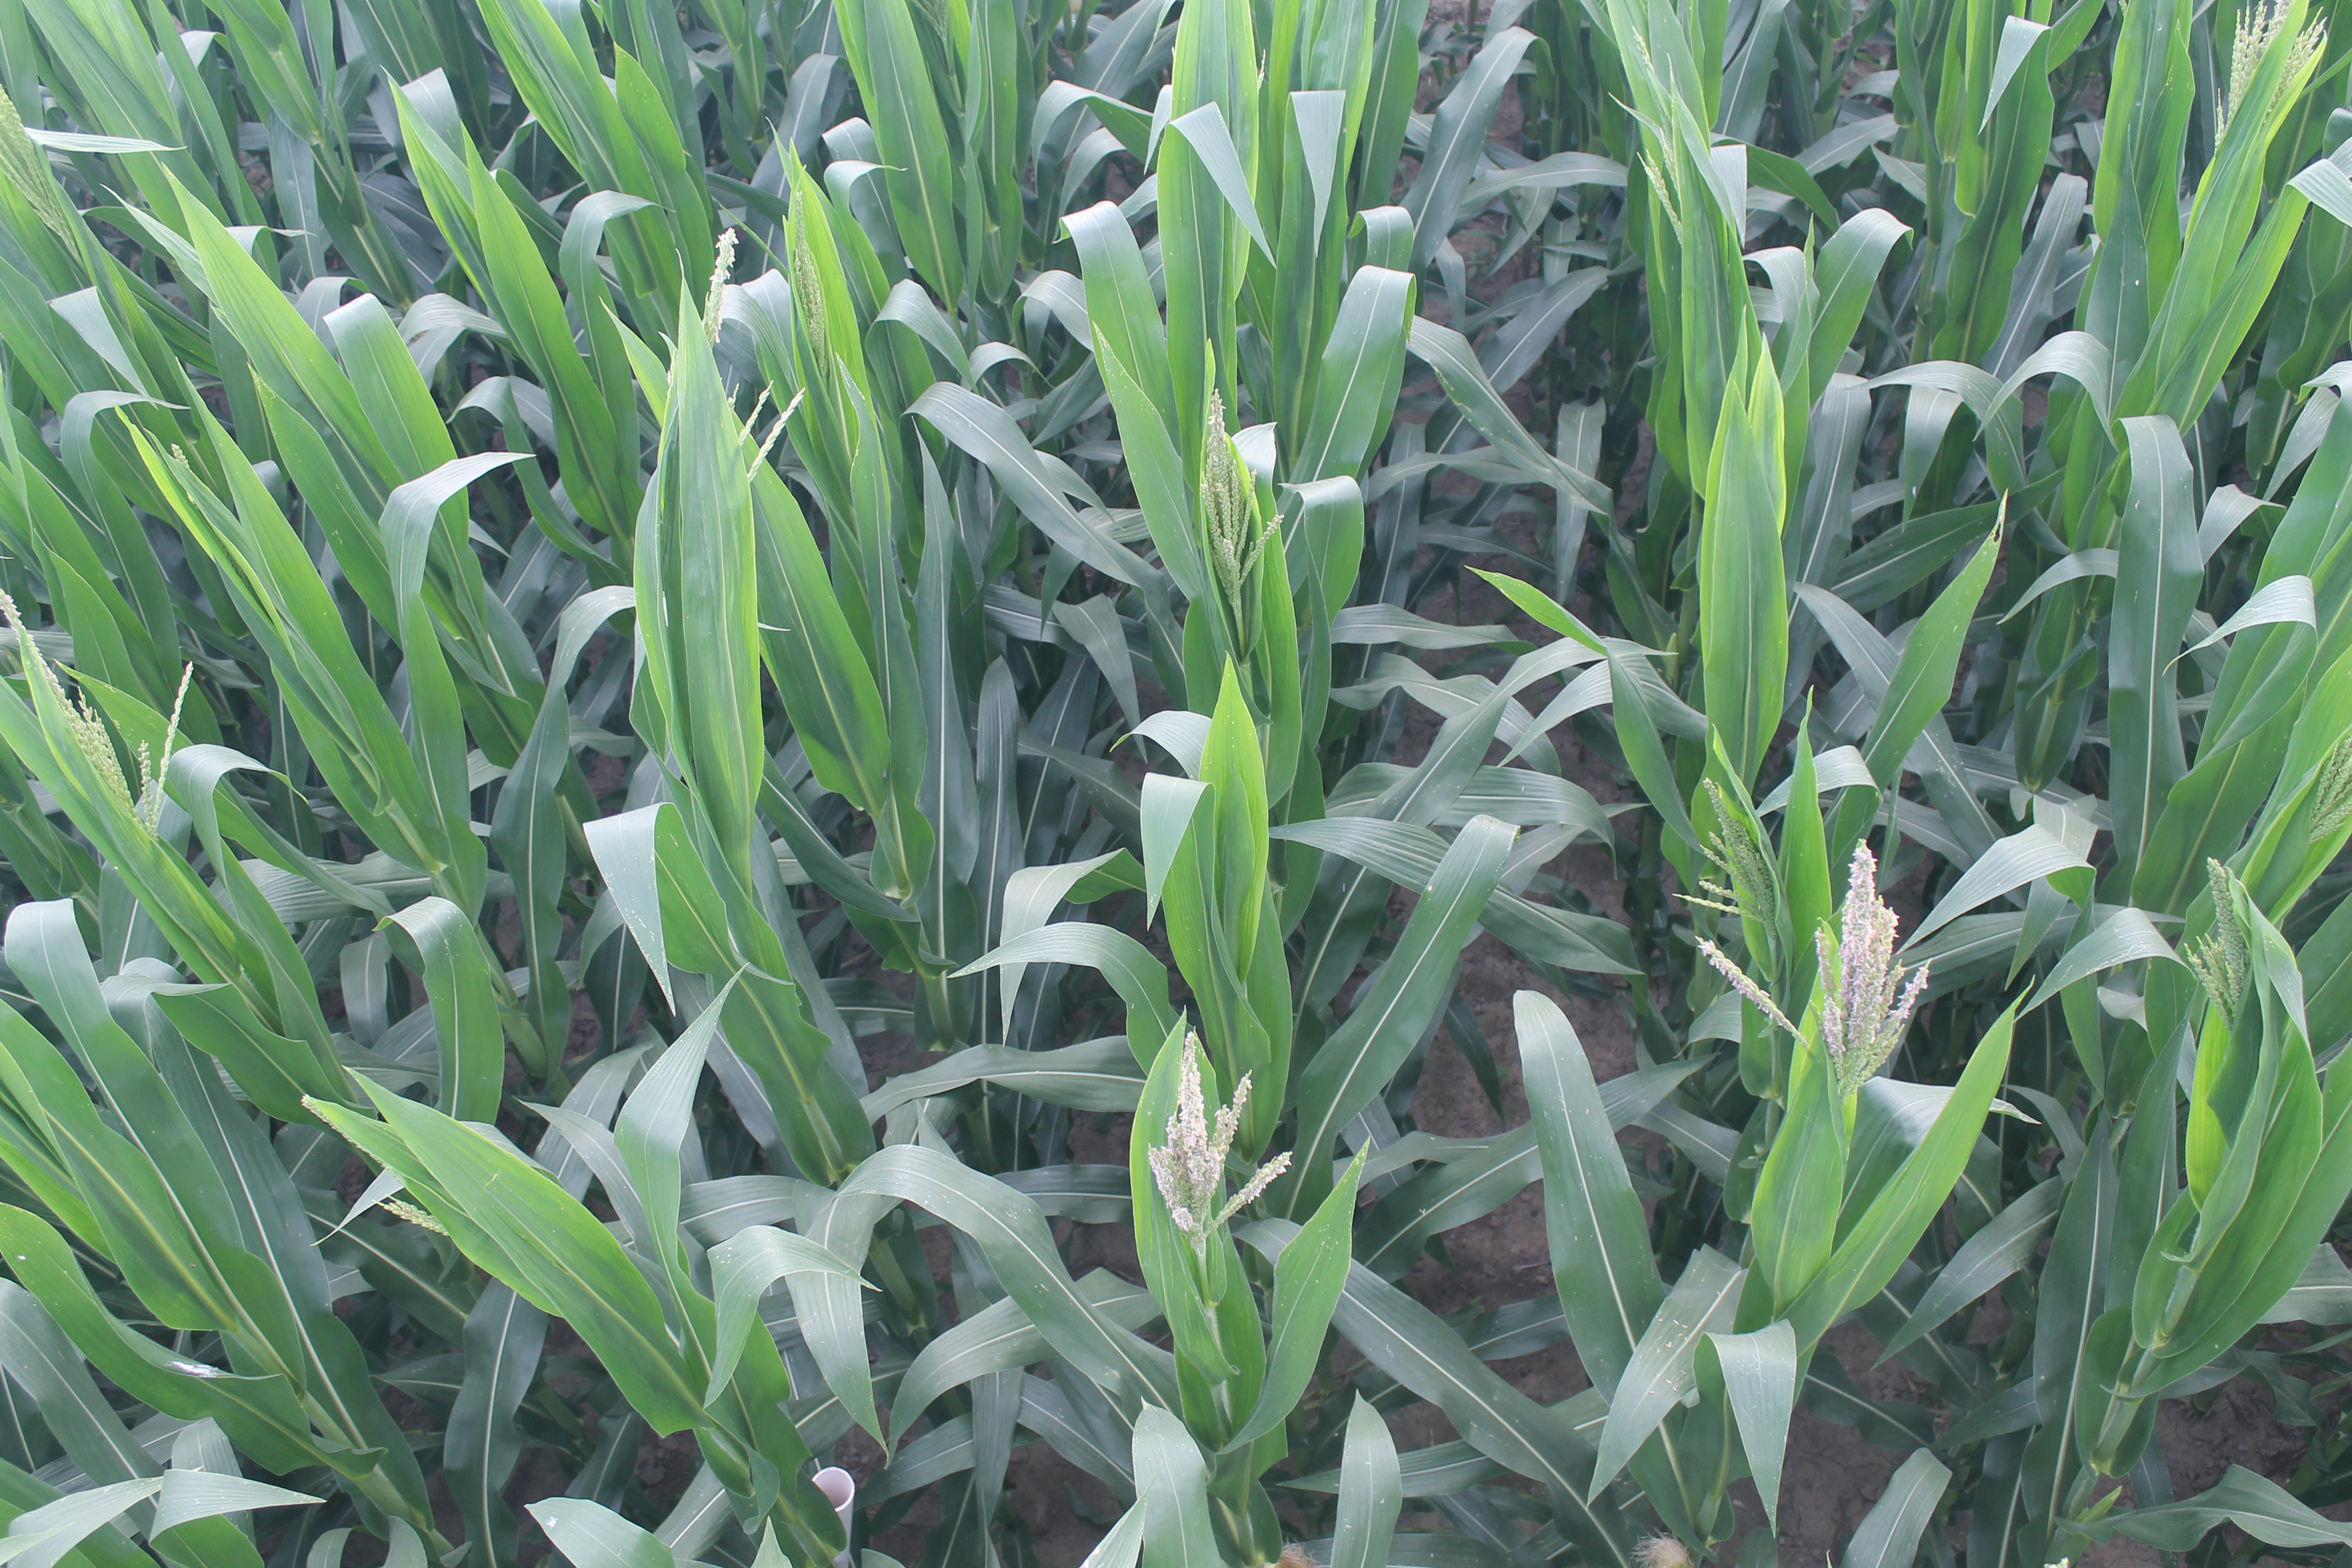Maize: (0, 584, 171, 835), (1155, 1032, 1290, 1244), (1820, 835, 1930, 1073), (1178, 387, 1290, 586), (2208, 0, 2333, 166), (1690, 772, 1780, 926), (2186, 863, 2256, 1013), (2301, 714, 2352, 857)
